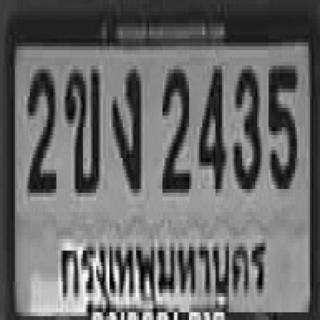A02: (63, 66, 100, 189)
A07: (111, 66, 139, 189)
N02: (26, 66, 55, 189), (161, 66, 189, 189)
N03: (232, 66, 260, 189)
N04: (197, 62, 224, 189)
N05: (267, 62, 295, 185)
P04: (51, 224, 270, 320)
